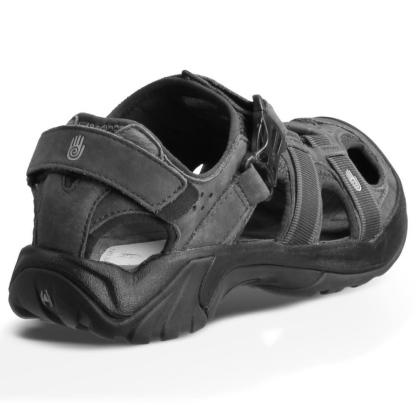ankle: (238, 144, 256, 163)
heel: (35, 287, 55, 303)
pinky: (387, 185, 400, 194)
right_foot: (12, 79, 409, 343)
toe: (301, 119, 314, 131)
